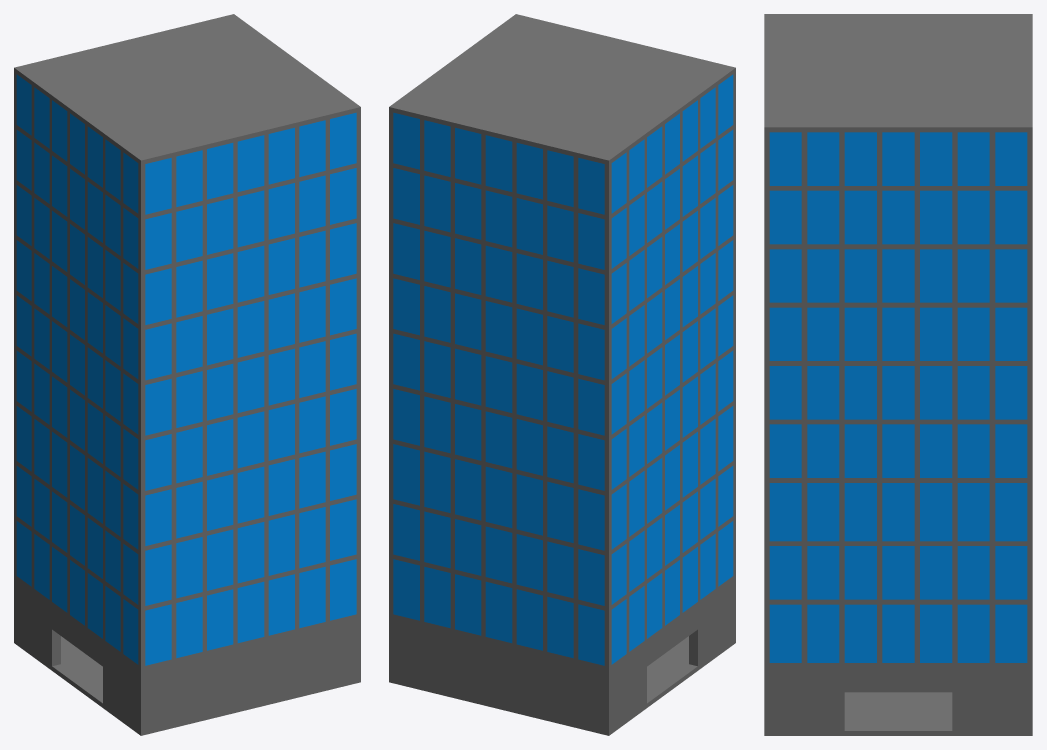
Rendered from tall-tower-1-open.obj.
The picture shows the model from 3 angles, left to right: view 1: azimuth 30°, elevation 25°; view 2: azimuth 150°, elevation 25°; view 3: azimuth 270°, elevation 25°; orthographic projection. The views are drawn at different scales.
Size of the model in its own units: 50 by 125 by 50.
Materials: 1 (1 with a texture image).
